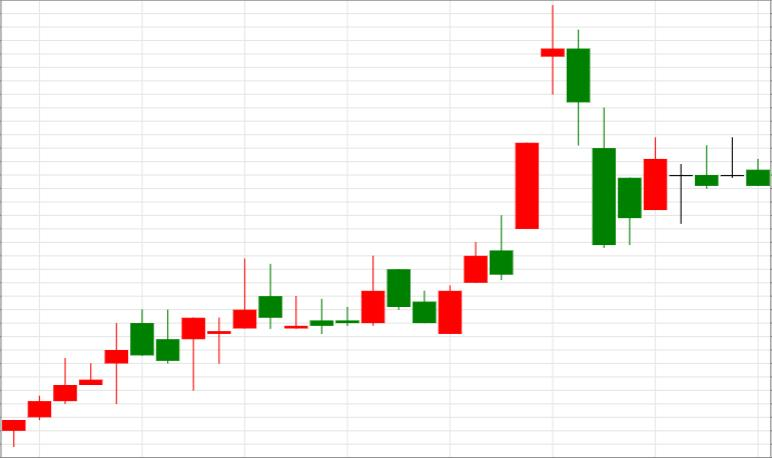evening_star_fall: (439, 6, 590, 334)
